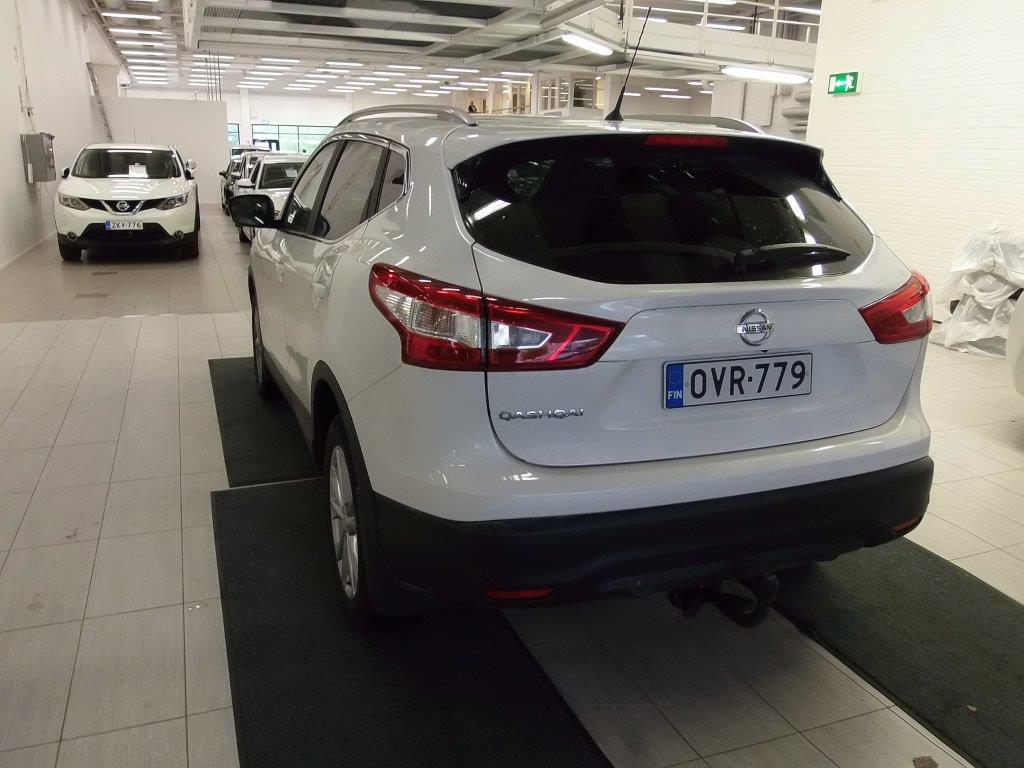license: (662, 351, 809, 408)
